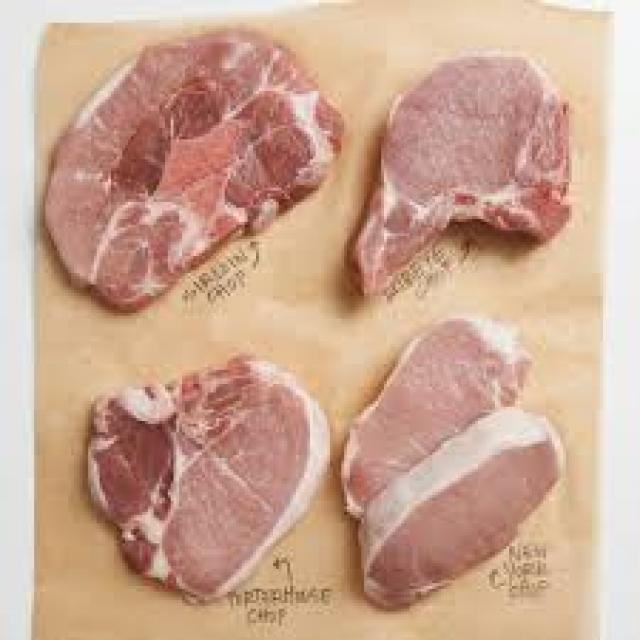pork: (46, 31, 344, 311), (344, 319, 566, 610), (91, 358, 330, 603), (356, 54, 572, 294)
